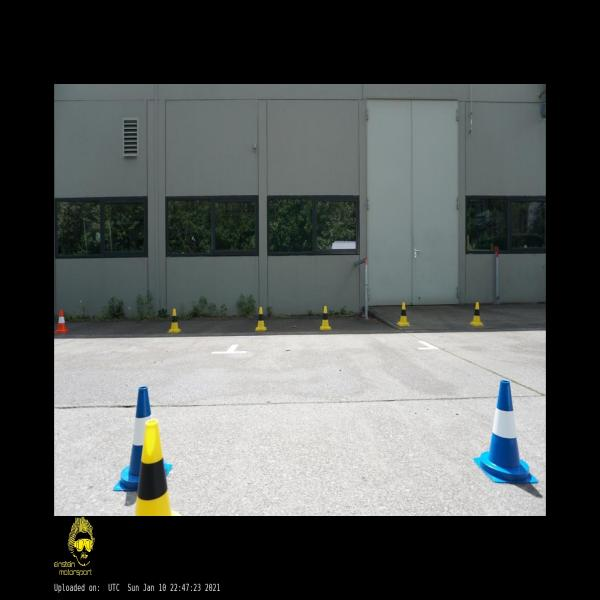blue_cone: (473, 380, 538, 484), (113, 386, 172, 491)
orange_cone: (54, 309, 70, 334)
yellow_cone: (131, 420, 182, 516), (469, 301, 484, 326), (396, 301, 411, 326), (167, 308, 182, 333), (319, 305, 332, 330), (255, 307, 267, 331)
